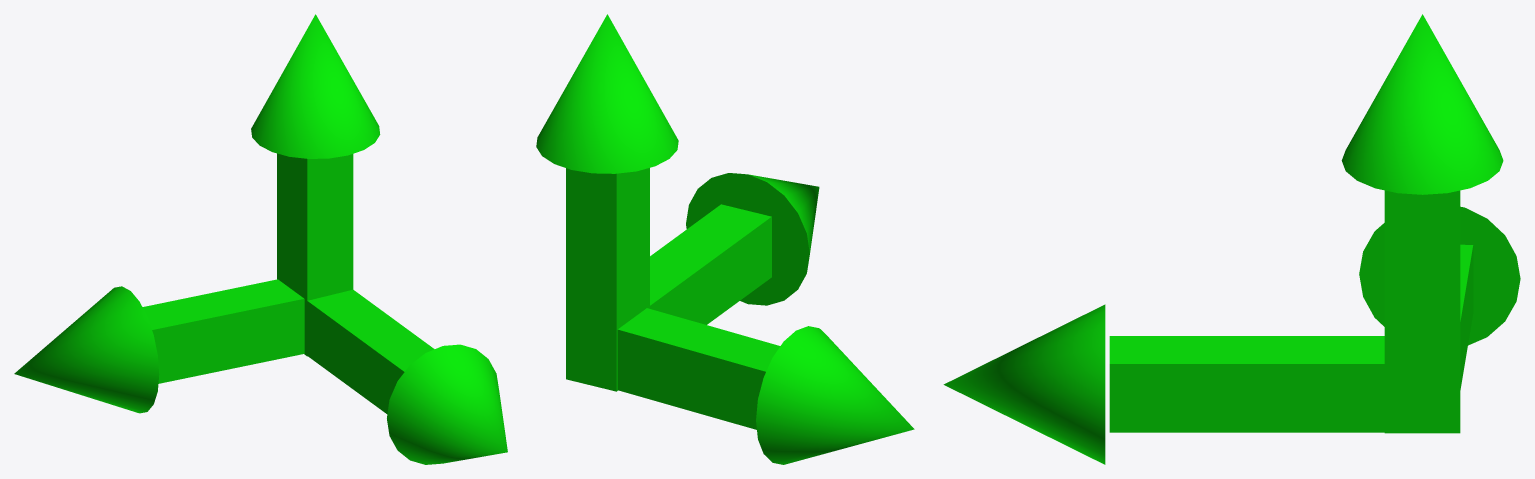
The model's file is translate.fbx.
The picture shows the model from 3 angles, left to right: view 1: azimuth 30°, elevation 25°; view 2: azimuth 150°, elevation 25°; view 3: azimuth 270°, elevation 25°; orthographic projection. The views are drawn at different scales.
Parts seen in each view (by area): view 1: pCone5; view 2: pCone5; view 3: pCone5.
Part boxes in pixels (box(x1,y1,x2,y2)): pCone5: box(14, 14, 507, 464); pCone5: box(536, 14, 914, 464); pCone5: box(943, 14, 1520, 464).
Bounding box in the file's own units: 1.32 × 1.3 × 1.53.
